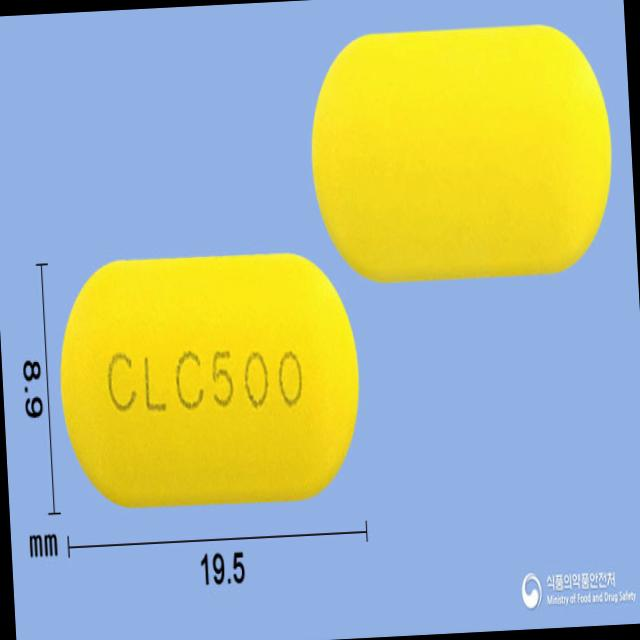Claric: (51, 237, 369, 515)
